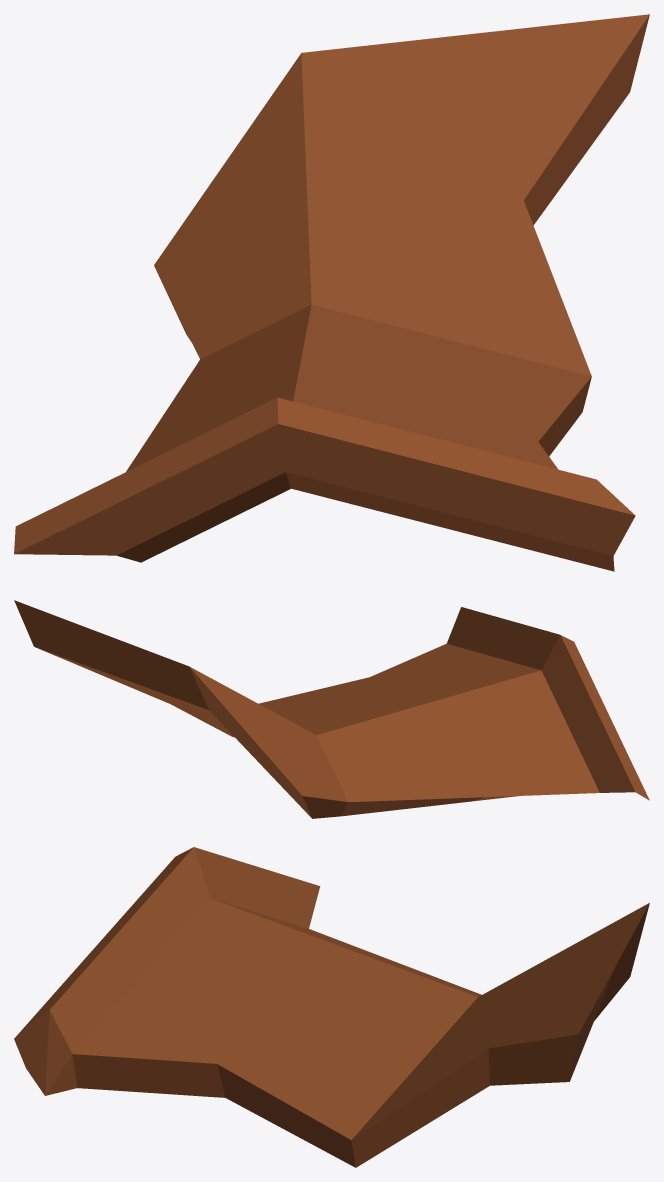
The model's file is Collin_BrokenVase_005_Piece_003.fbx.
3 views of the same model, one above another, from view 1: azimuth 30°, elevation 25°; view 2: azimuth 150°, elevation 25°; view 3: azimuth 270°, elevation 25° (orthographic). The views are drawn at different scales.
Parts seen in each view (by area): view 1: Broken_Vase_001_BrokenPiece_001; view 2: Broken_Vase_001_BrokenPiece_001; view 3: Broken_Vase_001_BrokenPiece_001.
Boxes of the visible parts, bbox=[...] form: Broken_Vase_001_BrokenPiece_001: bbox=[14, 14, 649, 571]; Broken_Vase_001_BrokenPiece_001: bbox=[14, 600, 649, 818]; Broken_Vase_001_BrokenPiece_001: bbox=[14, 847, 649, 1167].
Bounding box in the file's own units: 35.01 × 10.86 × 28.41.
1 material, 1 textured.
